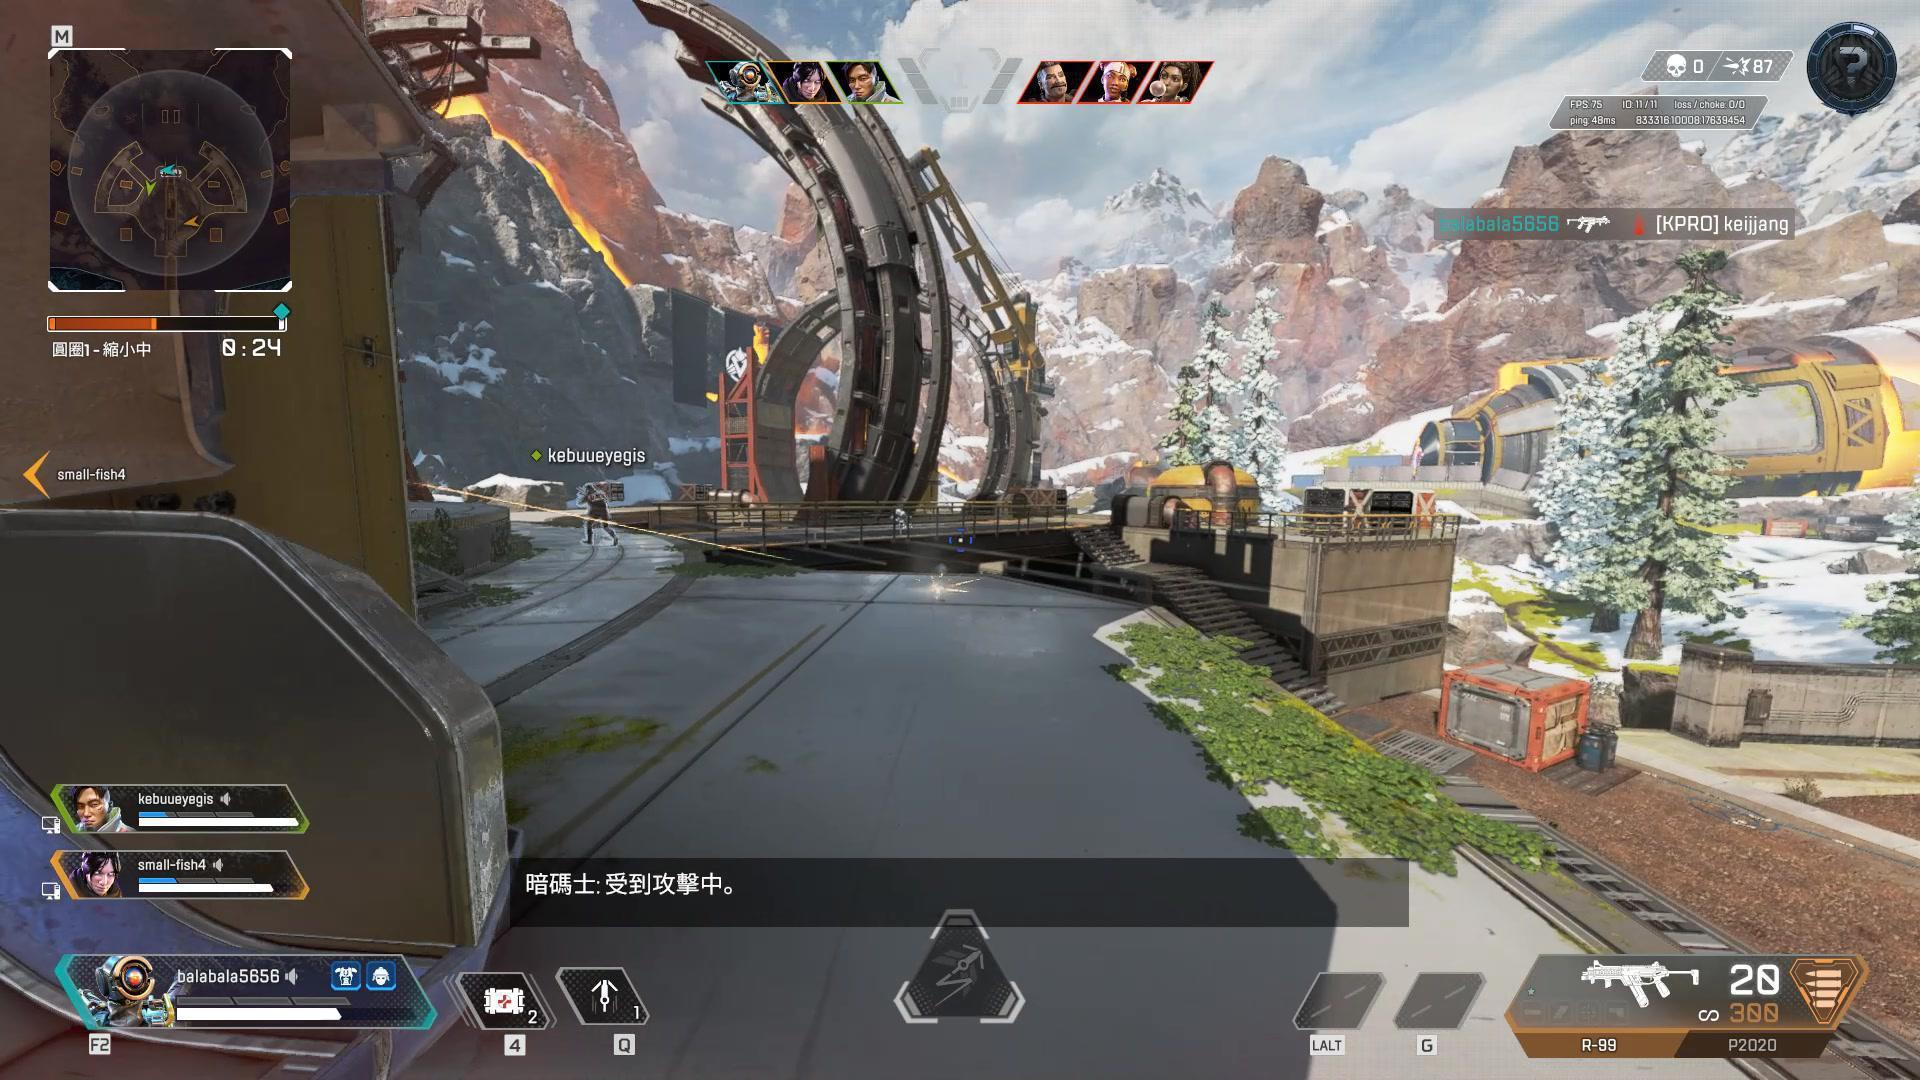avatar: (574, 479, 621, 550)
